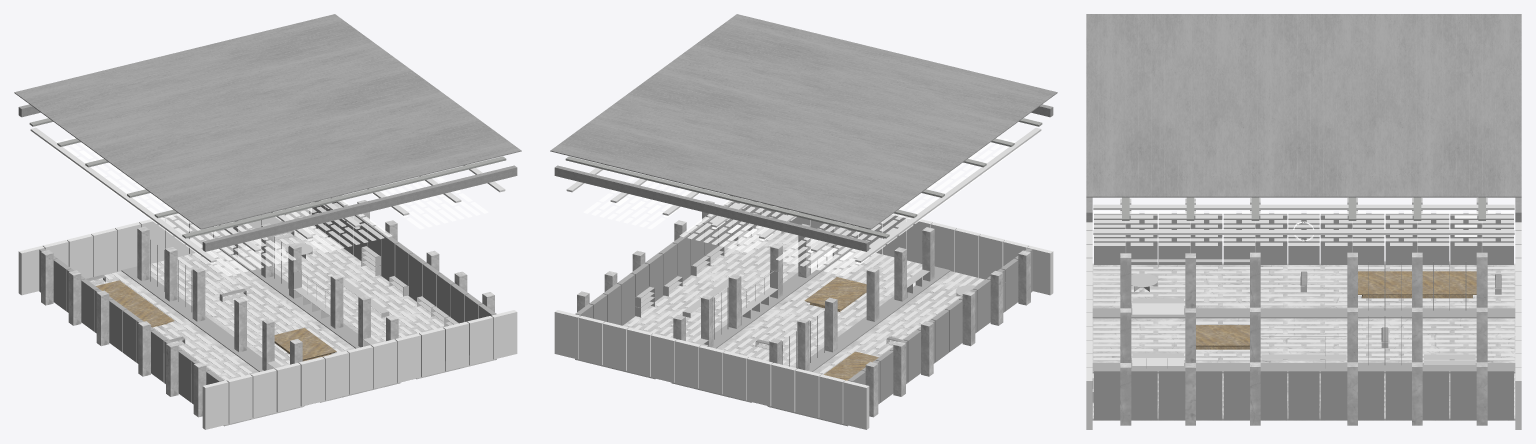
Rendered from mm69-exploded-v1.glb.
3 views of the same model, side by side, from view 1: azimuth 30°, elevation 25°; view 2: azimuth 150°, elevation 25°; view 3: azimuth 270°, elevation 25° (orthographic). The views are drawn at different scales.
Visible parts, largest first — view 1: cati, marb;e matte, DIS CAM, GALCANIZED, ZEMIN ONYX, ISIK, Mesh_5, Mesh_4.002, Merged Objects 5, TAS MASA, Merged Objects 6; view 2: cati, marb;e matte, DIS CAM, GALCANIZED, ZEMIN ONYX, ISIK, Mesh_5, Mesh_4.002, Merged Objects 5, Merged Objects 6, TAS MASA; view 3: cati, GALCANIZED, marb;e matte, ZEMIN ONYX, ISIK, Merged Objects 5, TAS MASA, Mesh_4.002, DIS CAM, Mesh_5, Merged Objects 6, IC CAM.
Part boxes in pixels (<box>): cati: <box>14,14,521,229</box>; marb;e matte: <box>41,195,496,426</box>; DIS CAM: <box>18,203,517,429</box>; GALCANIZED: <box>39,196,496,405</box>; ZEMIN ONYX: <box>90,226,444,380</box>; ISIK: <box>47,137,488,276</box>; Mesh_5: <box>18,104,517,342</box>; Mesh_4.002: <box>90,231,469,402</box>; Merged Objects 5: <box>30,127,505,262</box>; TAS MASA: <box>96,280,336,361</box>; Merged Objects 6: <box>29,118,506,238</box>; cati: <box>550,14,1057,229</box>; marb;e matte: <box>575,195,1030,426</box>; DIS CAM: <box>554,203,1053,429</box>; GALCANIZED: <box>575,196,1032,405</box>; ZEMIN ONYX: <box>627,226,984,373</box>; ISIK: <box>583,137,1024,276</box>; Mesh_5: <box>554,104,1053,368</box>; Mesh_4.002: <box>635,225,1005,350</box>; Merged Objects 5: <box>566,127,1041,262</box>; Merged Objects 6: <box>565,118,1042,238</box>; TAS MASA: <box>804,277,878,380</box>; cati: <box>1086,14,1521,197</box>; GALCANIZED: <box>1092,213,1515,420</box>; marb;e matte: <box>1092,198,1515,425</box>; ZEMIN ONYX: <box>1093,267,1514,415</box>; ISIK: <box>1093,211,1514,245</box>; Merged Objects 5: <box>1093,204,1514,234</box>; TAS MASA: <box>1196,271,1476,349</box>; Mesh_4.002: <box>1092,228,1501,418</box>; DIS CAM: <box>1086,222,1521,429</box>; Mesh_5: <box>1086,197,1521,364</box>; Merged Objects 6: <box>1122,197,1485,220</box>; IC CAM: <box>1132,303,1183,365</box>.
Size of the model in its own units: 40 by 24.3 by 40.32.
Materials: 14 (4 with a texture image).
